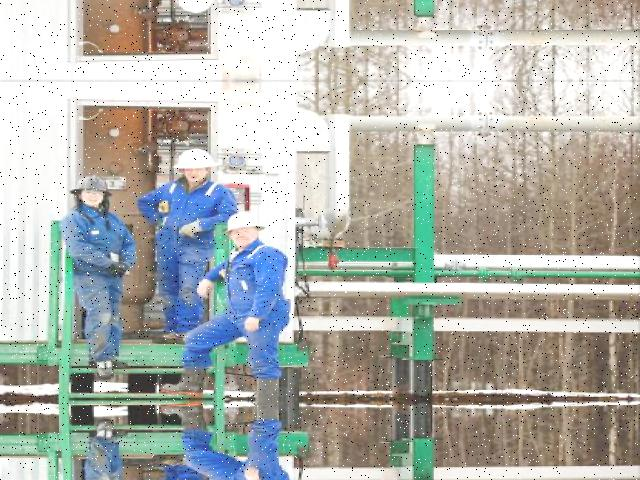Helmet: (168, 144, 223, 172), (65, 175, 119, 202), (224, 208, 272, 238)
